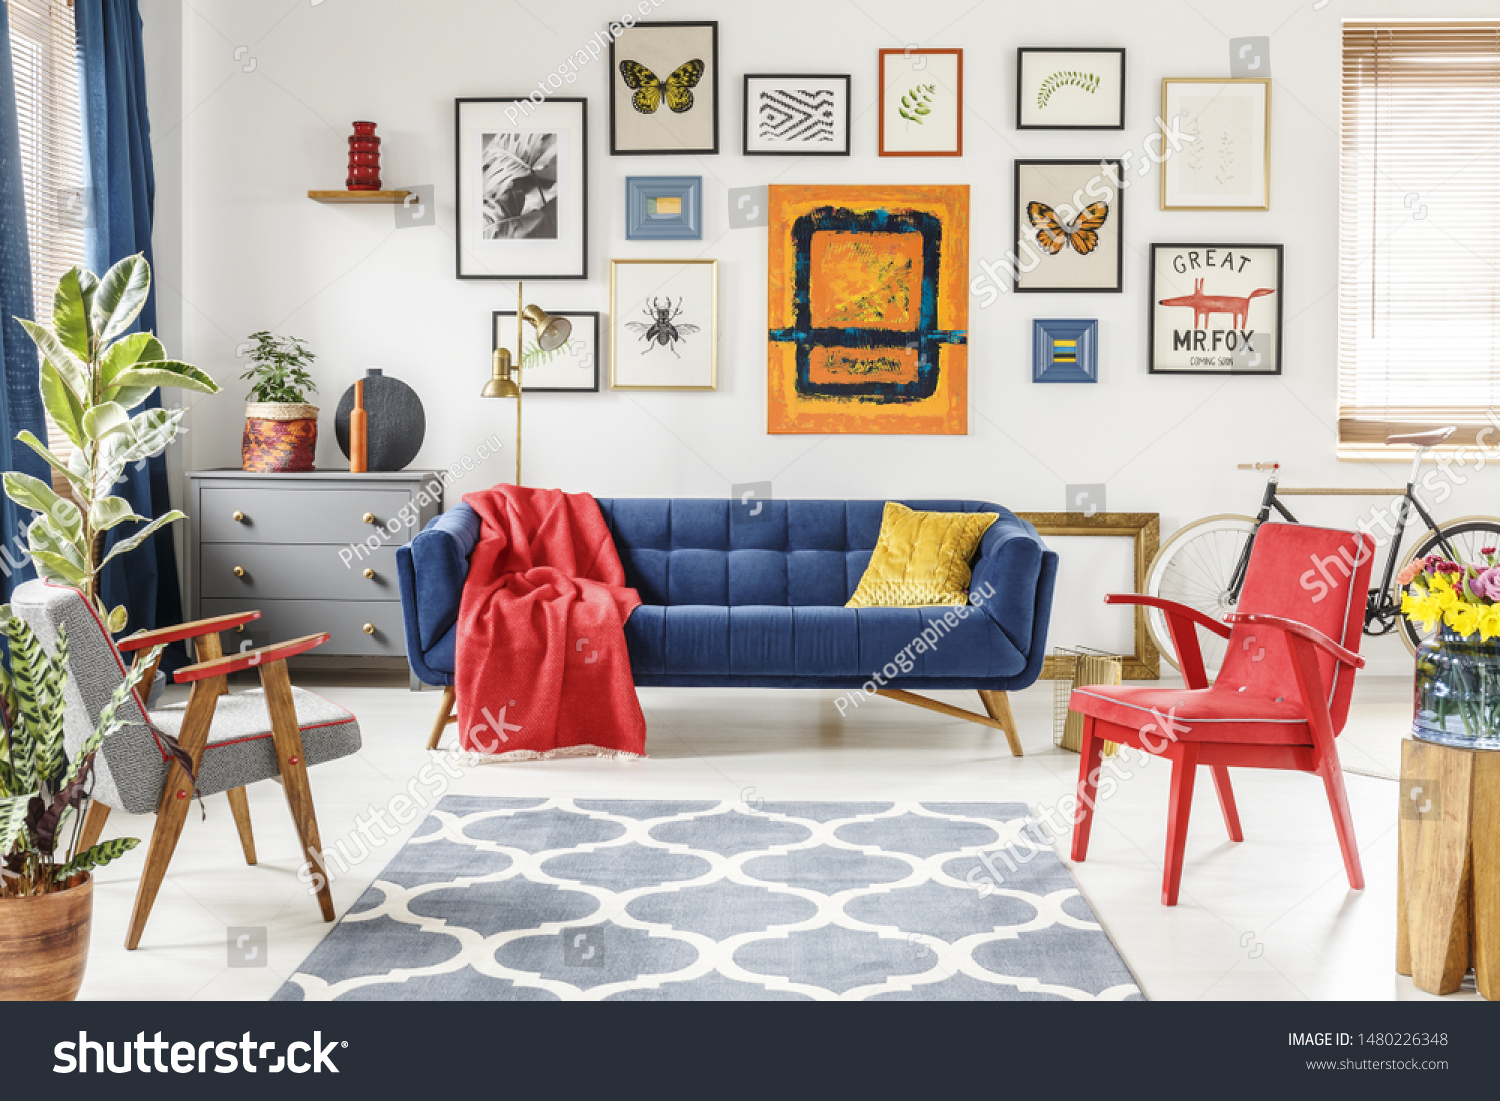biru: (634, 495, 1038, 675)
coklat: (1395, 743, 1500, 994), (1, 877, 89, 1002)
kuning: (869, 507, 965, 604)
merah: (1075, 528, 1363, 892), (469, 490, 637, 751)
